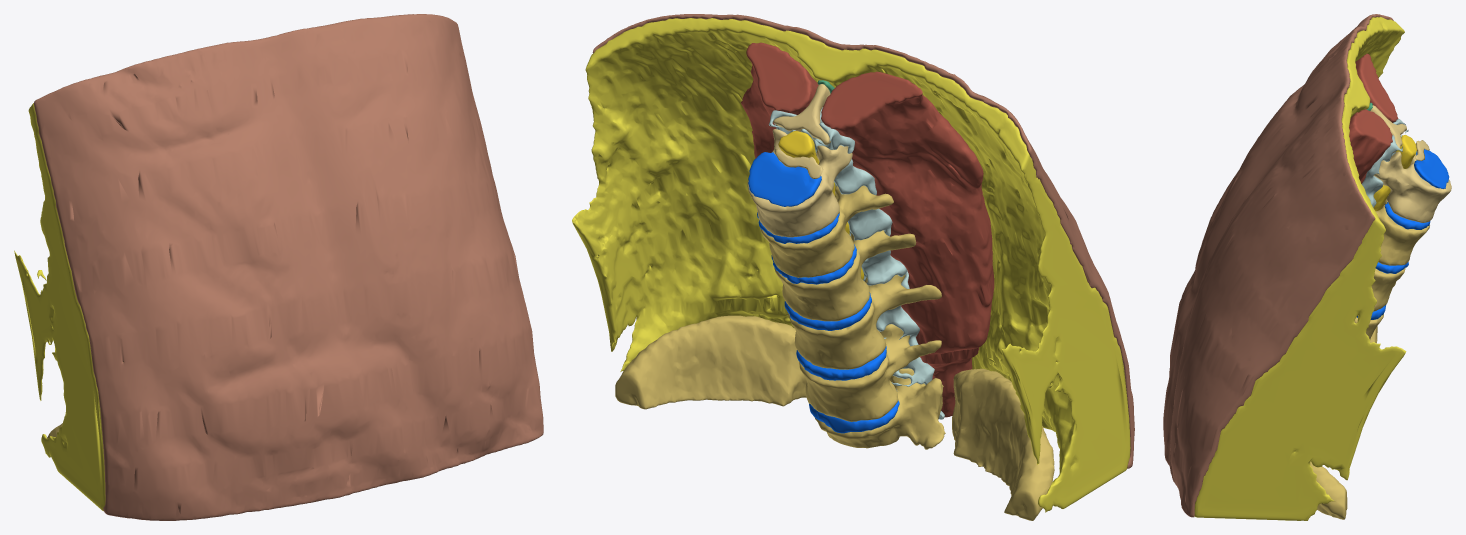
Rendered from lumbar_adjusted.glb.
The picture shows the model from 3 angles, left to right: view 1: azimuth 30°, elevation 25°; view 2: azimuth 150°, elevation 25°; view 3: azimuth 270°, elevation 25°; orthographic projection. The views are drawn at different scales.
Visible parts, largest first — view 1: SkinThin, fat; view 2: fat, leftdeepbackmuscle, righthip, lefthip, intervertebral_discs, SkinThin, Ligaments, L4vertebra, L3vertebra, rightdeepbackmuscle, L2vertebra, L5vertebra (+4 smaller); view 3: SkinThin, fat, T12vertebra, rightdeepbackmuscle, intervertebral_discs, L1vertebra, leftdeepbackmuscle, righthip, Ligaments, L2vertebra, spinalcord, T11vertebra.
Part boxes in pixels (x1=…): SkinThin: x1=34, y1=14, x2=543, y2=520; fat: x1=14, y1=103, x2=105, y2=510; fat: x1=572, y1=18, x2=1130, y2=512; leftdeepbackmuscle: x1=821, y1=71, x2=994, y2=417; righthip: x1=615, y1=315, x2=806, y2=409; lefthip: x1=952, y1=368, x2=1054, y2=520; intervertebral_discs: x1=748, y1=152, x2=899, y2=433; SkinThin: x1=592, y1=14, x2=1134, y2=468; Ligaments: x1=769, y1=107, x2=944, y2=419; L4vertebra: x1=799, y1=324, x2=941, y2=421; L3vertebra: x1=787, y1=274, x2=941, y2=369; rightdeepbackmuscle: x1=741, y1=42, x2=818, y2=158; L2vertebra: x1=774, y1=230, x2=916, y2=321; L5vertebra: x1=814, y1=368, x2=945, y2=449; SkinThin: x1=1163, y1=14, x2=1393, y2=517; fat: x1=1194, y1=16, x2=1406, y2=520; T12vertebra: x1=1373, y1=151, x2=1451, y2=222; rightdeepbackmuscle: x1=1349, y1=109, x2=1392, y2=183; intervertebral_discs: x1=1357, y1=149, x2=1449, y2=319; L1vertebra: x1=1375, y1=199, x2=1429, y2=265; leftdeepbackmuscle: x1=1355, y1=53, x2=1398, y2=122; righthip: x1=1310, y1=461, x2=1347, y2=519; Ligaments: x1=1361, y1=119, x2=1408, y2=207; L2vertebra: x1=1371, y1=267, x2=1405, y2=311; spinalcord: x1=1373, y1=135, x2=1416, y2=210; T11vertebra: x1=1370, y1=105, x2=1429, y2=160.
Size of the model in its own units: 0.3139 by 0.2724 by 0.2007.
